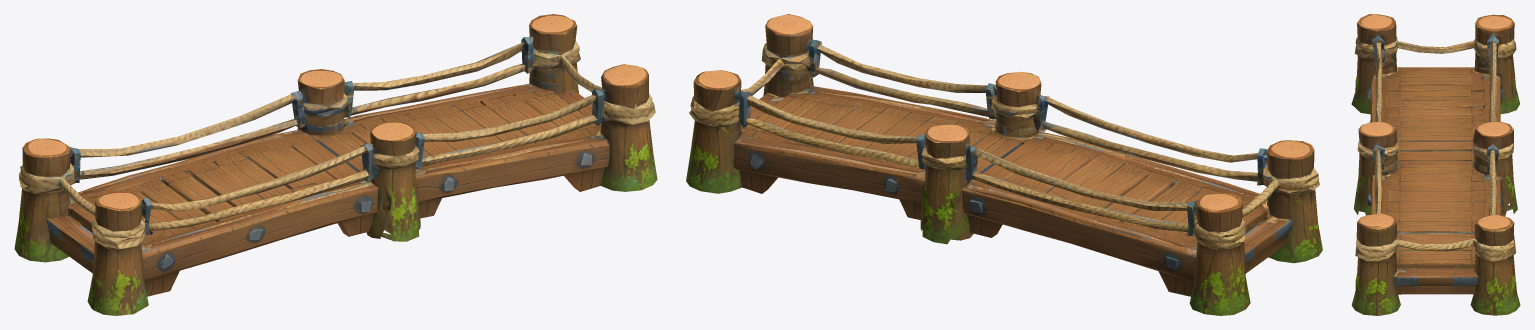
File: bridge.glb
The picture shows the model from 3 angles, left to right: view 1: azimuth 30°, elevation 25°; view 2: azimuth 150°, elevation 25°; view 3: azimuth 270°, elevation 25°; orthographic projection. The views are drawn at different scales.
Parts seen in each view (by area): view 1: Body; view 2: Body; view 3: Body.
Part boxes in pixels (<box>): Body: <box>14,14,657,315</box>; Body: <box>686,14,1322,315</box>; Body: <box>1351,14,1520,315</box>.
Bounding box in the file's own units: 7.99 × 1.48 × 2.58.
Materials: 1 (1 with a texture image).
